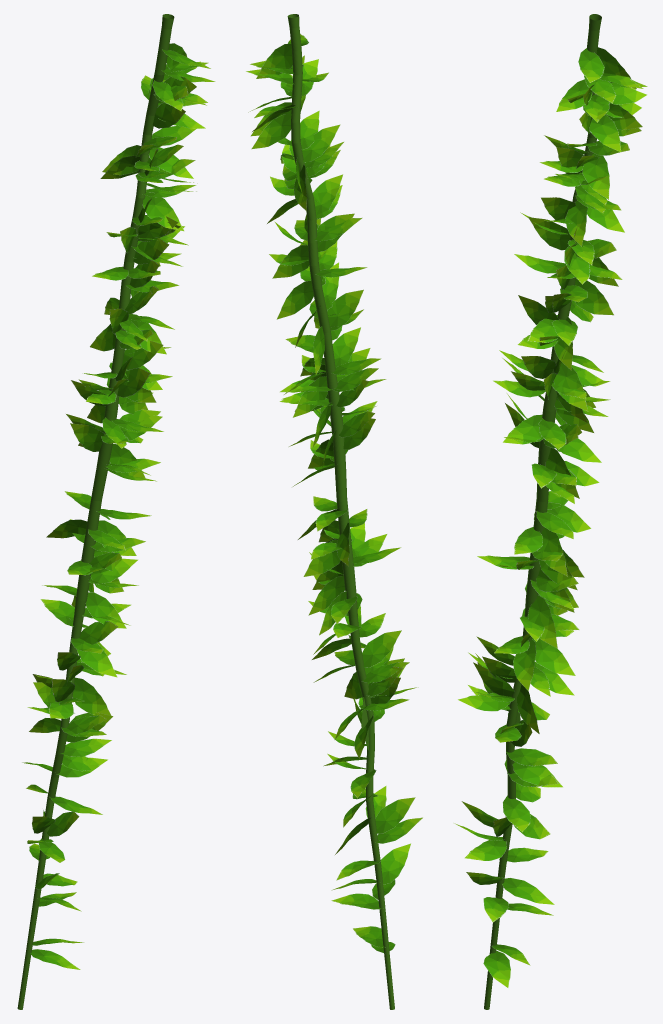
Rendered from vine1 1.fbx.
3 views of the same model, side by side, from view 1: azimuth 30°, elevation 25°; view 2: azimuth 150°, elevation 25°; view 3: azimuth 330°, elevation 25° (orthographic). The views are drawn at different scales.
Parts seen in each view (by area): view 1: Plane.017, Cylinder.001; view 2: Plane.017, Cylinder.001; view 3: Plane.017, Cylinder.001.
Boxes of the visible parts, x1,y1,x2,y2 form: Plane.017: (22,43,215,969); Cylinder.001: (17,14,174,1009); Plane.017: (246,34,422,953); Cylinder.001: (287,14,394,1009); Plane.017: (454,47,647,987); Cylinder.001: (484,14,601,1009).
Bounding box in the file's own units: 211 × 1089 × 143.
